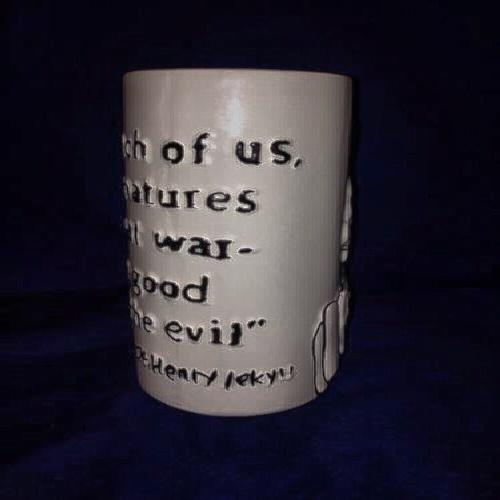mug: (120, 64, 355, 423)
